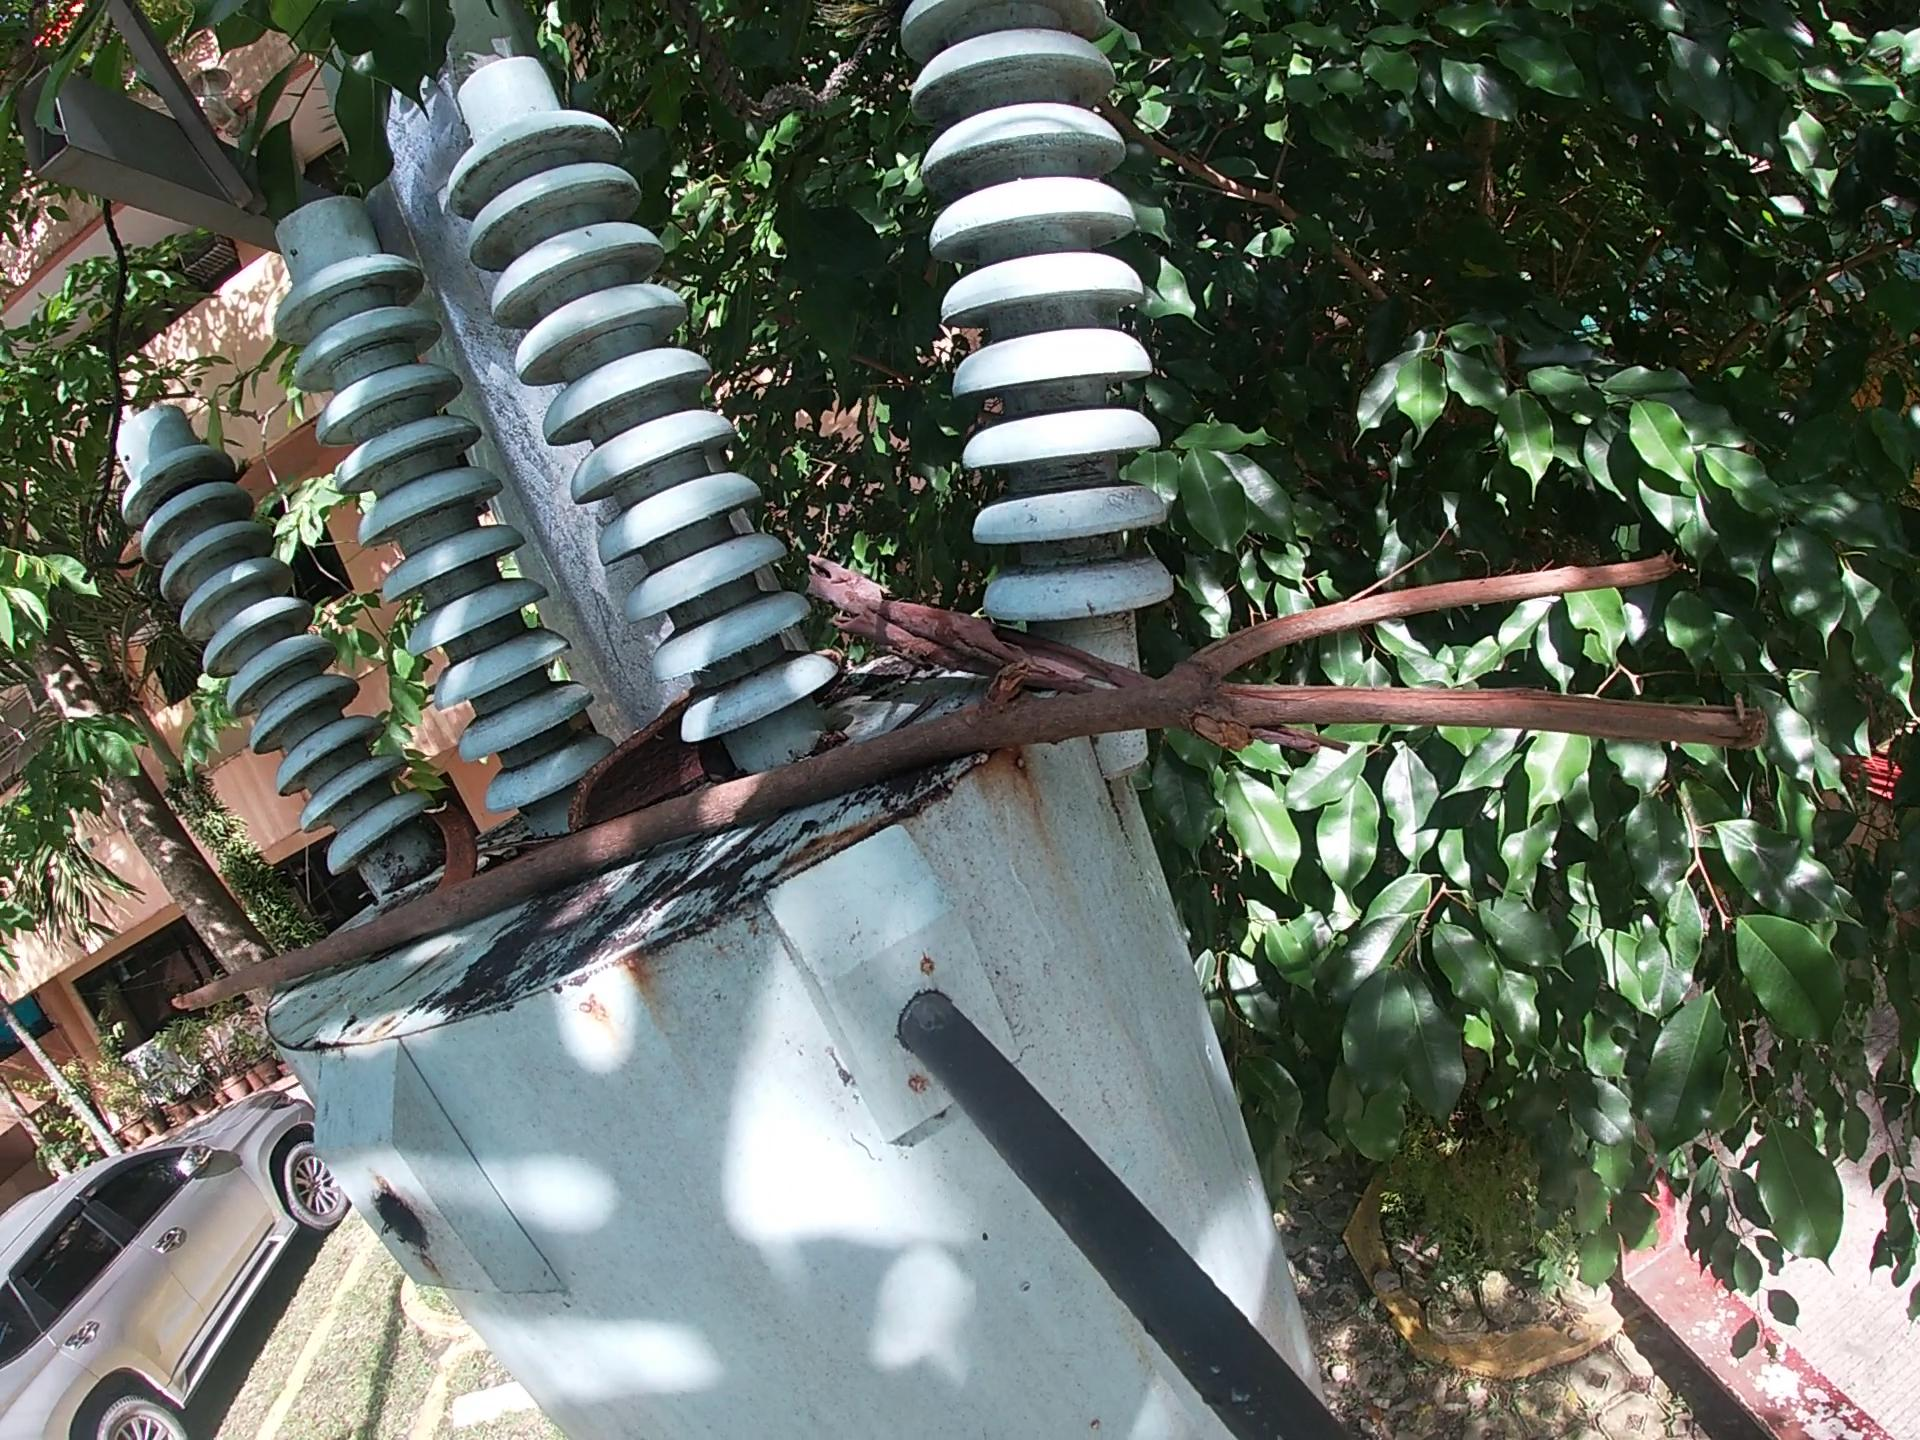mahogany fruit: (559, 682, 714, 839), (420, 799, 488, 895)
tree branch: (159, 542, 1767, 1024), (792, 548, 1361, 773)
